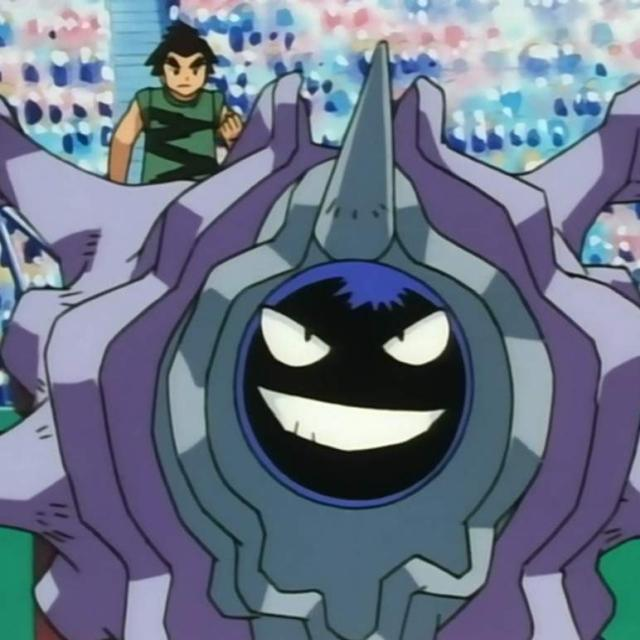Cloyster: (57, 163, 598, 627)
